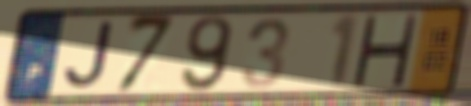1: (327, 12, 362, 92)
3: (239, 16, 292, 90)
7: (112, 12, 179, 98)
9: (180, 13, 235, 94)
H: (348, 13, 421, 89)
J: (61, 19, 116, 92)
